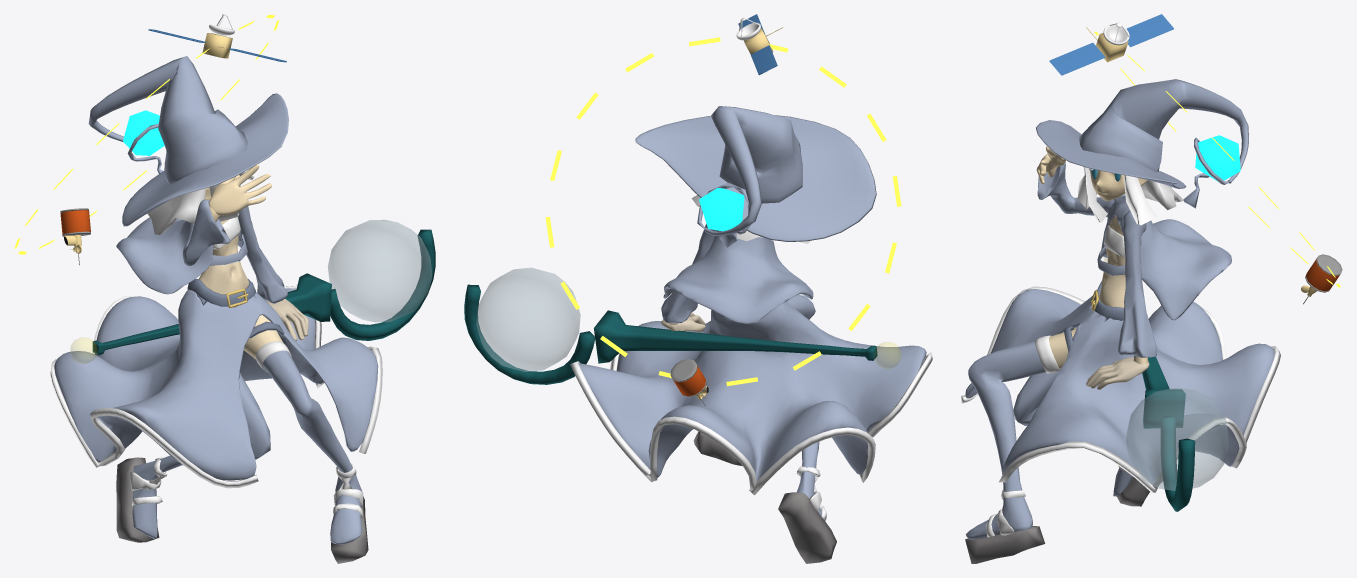
Rendered from witch-transformed.glb.
The picture shows the model from 3 angles, left to right: view 1: azimuth 30°, elevation 25°; view 2: azimuth 150°, elevation 25°; view 3: azimuth 270°, elevation 25°; orthographic projection.
Parts seen in each view (by area): view 1: Object_48, Object_6, Object_56, Object_52, Object_60, Object_4, Object_42, Object_54; view 2: Object_48, Object_6, Object_56, Object_52, Object_42, Object_4; view 3: Object_48, Object_6, Object_56, Object_52, Object_60, Object_4.
Boxes of the visible parts, x1,y1,x2,y2 form: Object_48: [54, 56, 378, 544]; Object_6: [50, 14, 382, 563]; Object_56: [328, 219, 432, 322]; Object_52: [92, 229, 435, 354]; Object_60: [199, 164, 308, 359]; Object_4: [123, 110, 164, 155]; Object_42: [14, 14, 279, 254]; Object_54: [70, 338, 96, 363]; Object_48: [578, 106, 926, 515]; Object_6: [570, 14, 932, 563]; Object_56: [476, 267, 580, 371]; Object_52: [464, 284, 877, 384]; Object_42: [545, 37, 901, 386]; Object_4: [699, 188, 744, 231]; Object_48: [965, 79, 1274, 539]; Object_6: [961, 14, 1342, 563]; Object_56: [1126, 387, 1228, 490]; Object_52: [1142, 356, 1195, 511]; Object_60: [1036, 146, 1149, 389]; Object_4: [1195, 135, 1240, 181].
Bounding box in the file's own units: 3.87 × 4.58 × 3.05.
